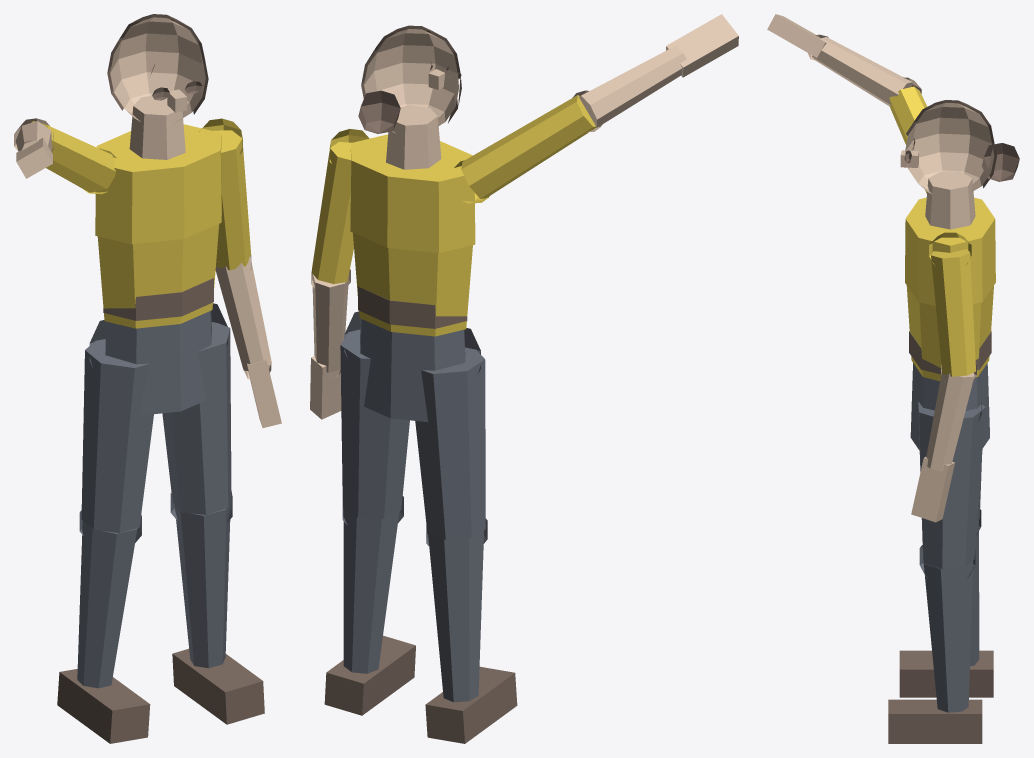
Rendered from low-poly-character-figures-civilian-waving-a7248cbd.glb.
3 renders of one model, left to right at view 1: azimuth 30°, elevation 25°; view 2: azimuth 150°, elevation 25°; view 3: azimuth 270°, elevation 25°, orthographic. The views are drawn at different scales.
Visible parts, largest first — view 1: civilian-waving; view 2: civilian-waving; view 3: civilian-waving.
Boxes of the visible parts, box(x1,y1,x2,y2) form: civilian-waving: box(14, 14, 281, 743); civilian-waving: box(310, 14, 738, 743); civilian-waving: box(767, 14, 1019, 743).
Size of the model in its own units: 0.8827 by 1.67 by 0.6249.
